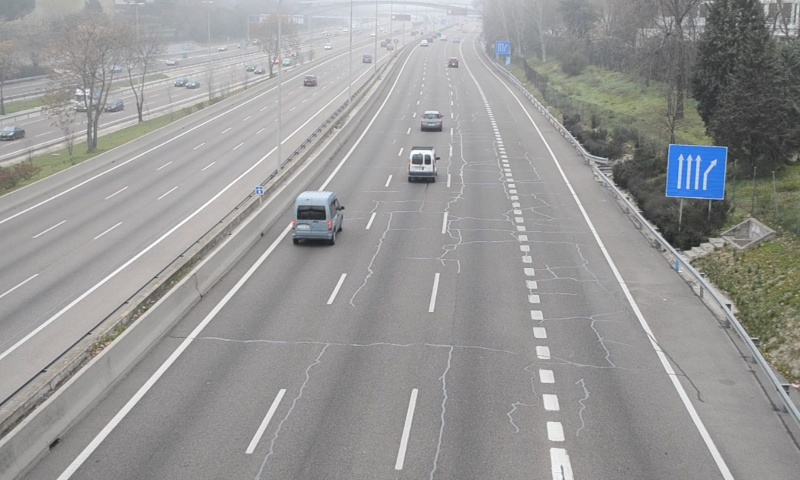car: (420, 110, 442, 130)
van: (293, 191, 342, 241), (408, 146, 436, 181)
